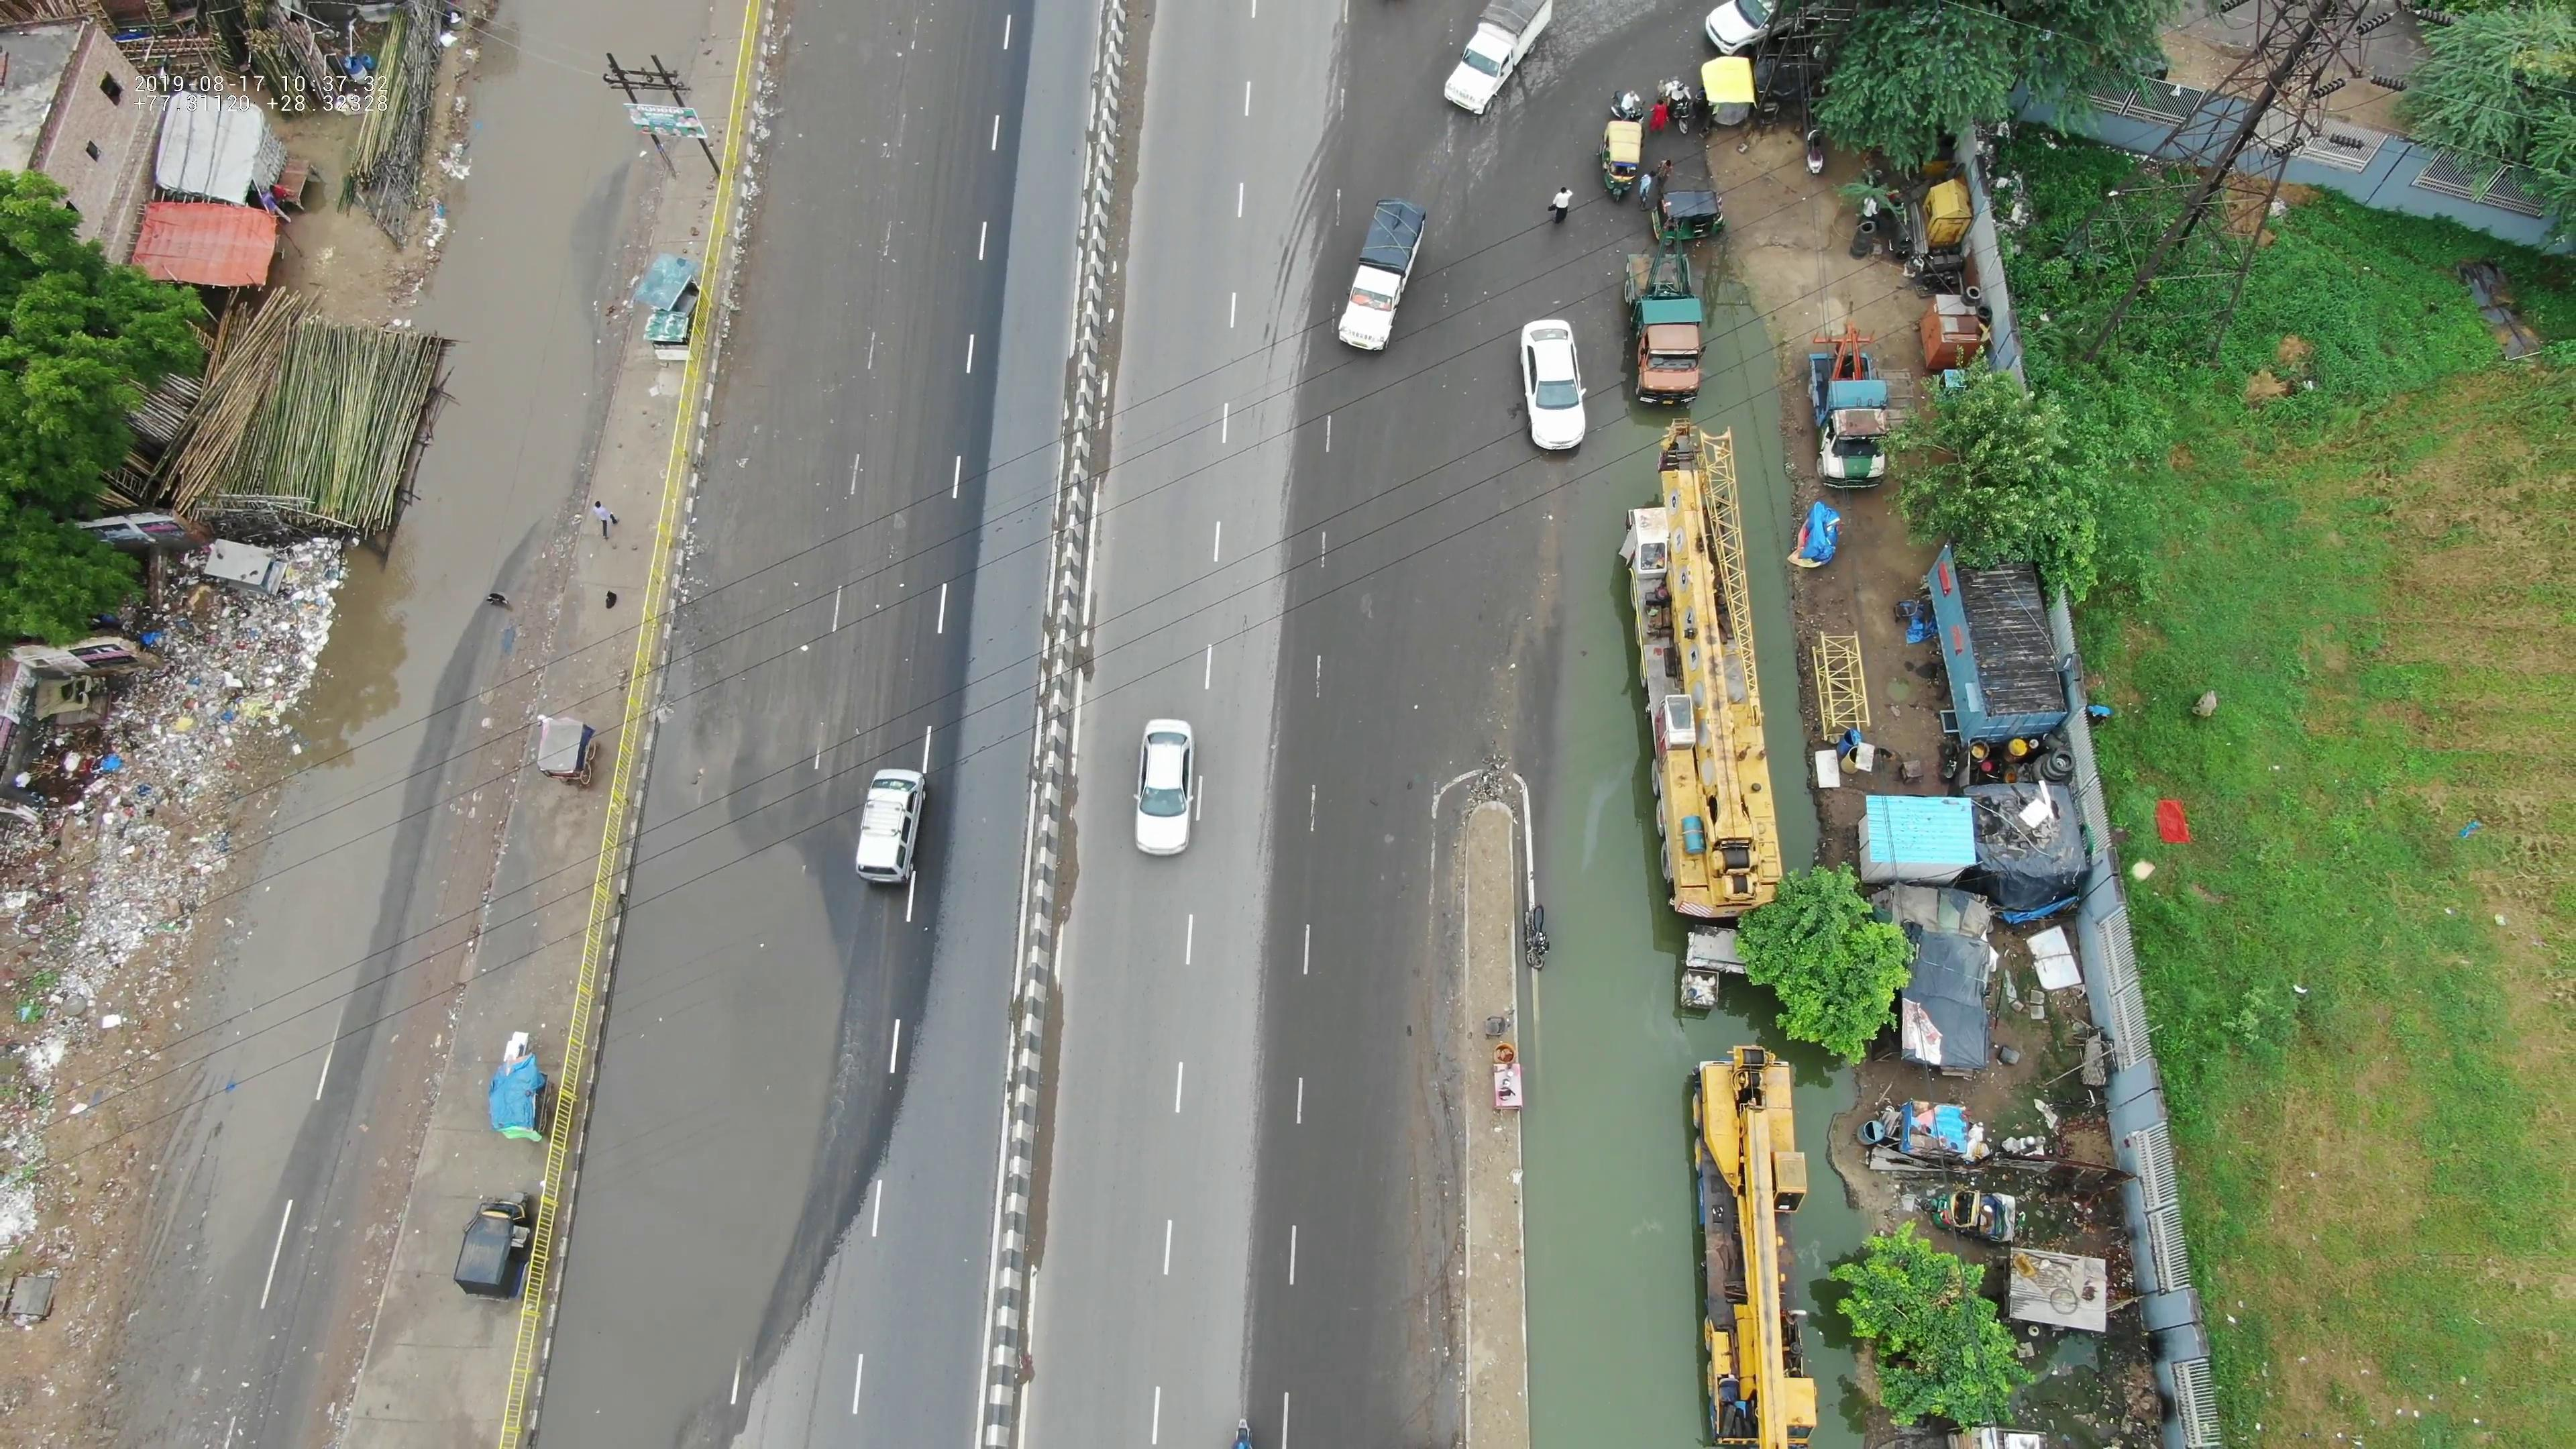Muddy_road: (738, 119, 916, 384), (651, 458, 821, 715)
Waterlogging: (1536, 449, 1835, 1405), (552, 755, 902, 1410), (336, 267, 589, 741), (159, 757, 391, 1185)
